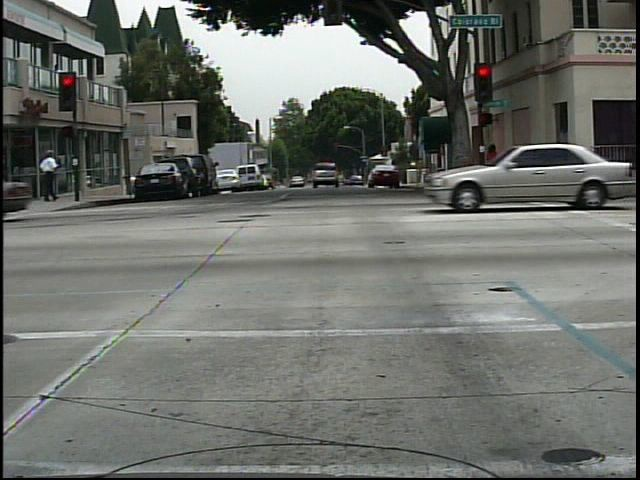person: (36, 143, 65, 207), (475, 140, 506, 193)
